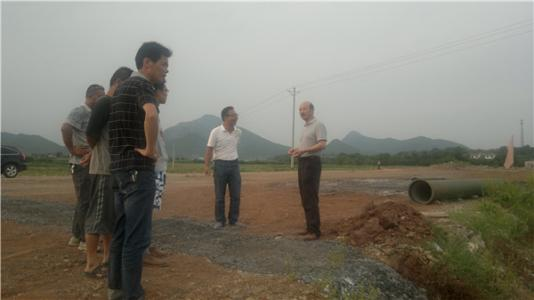boots: (303, 232, 319, 240), (213, 221, 224, 229)
person: (82, 41, 172, 299), (80, 66, 134, 276), (60, 83, 105, 251), (287, 100, 327, 240), (203, 105, 242, 229), (144, 80, 170, 259)
ppe-suit: (102, 74, 160, 298), (287, 99, 328, 240), (293, 117, 327, 235), (205, 124, 242, 225)
